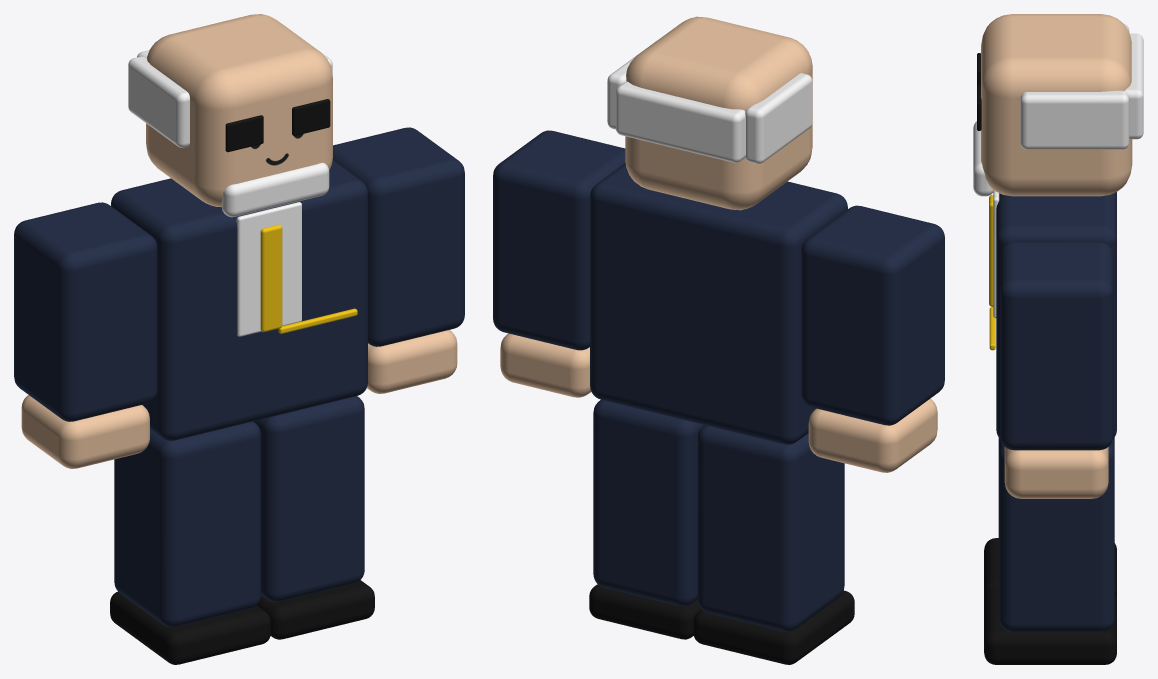
Rendered from marcel_riche.glb.
3 views of the same model, side by side, from view 1: azimuth 30°, elevation 25°; view 2: azimuth 150°, elevation 25°; view 3: azimuth 270°, elevation 25° (orthographic).
Visible parts, largest first — view 1: marcelRich; view 2: marcelRich; view 3: marcelRich.
Part boxes in pixels (x1,y1,x2,y2): marcelRich: (14,14,464,664); marcelRich: (493,16,944,664); marcelRich: (973,14,1143,664).
Size of the model in its own units: 3.9 by 5.31 by 1.41.
9 materials, 1 textured.
